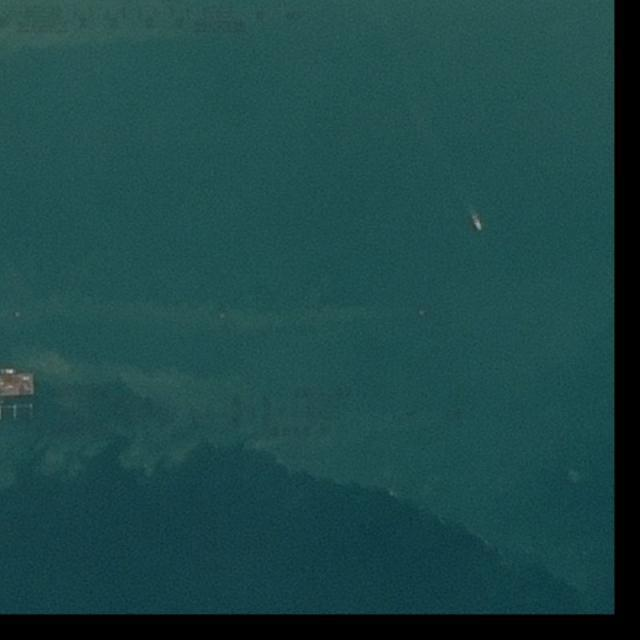ship: (473, 218, 485, 231), (0, 369, 18, 374)
